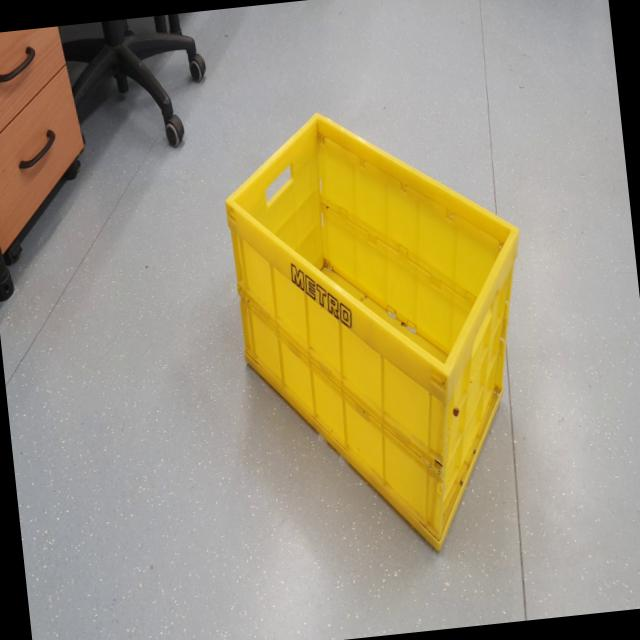box: (201, 59, 552, 600)
